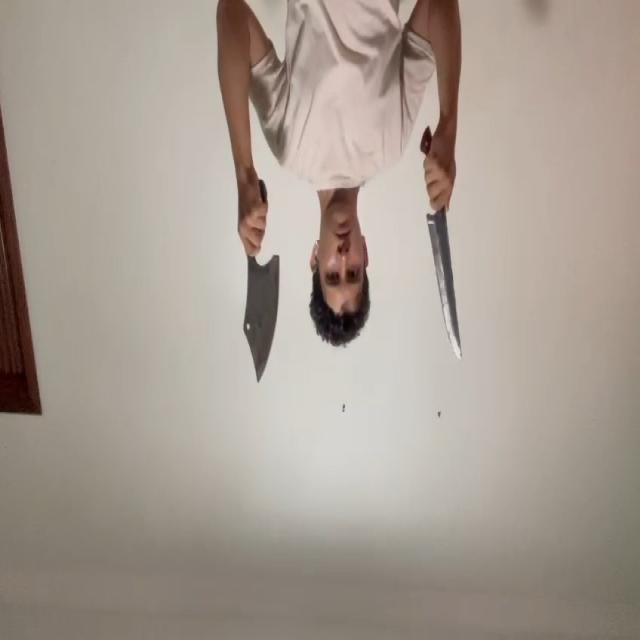knife: (426, 217, 462, 359), (242, 256, 278, 384)
